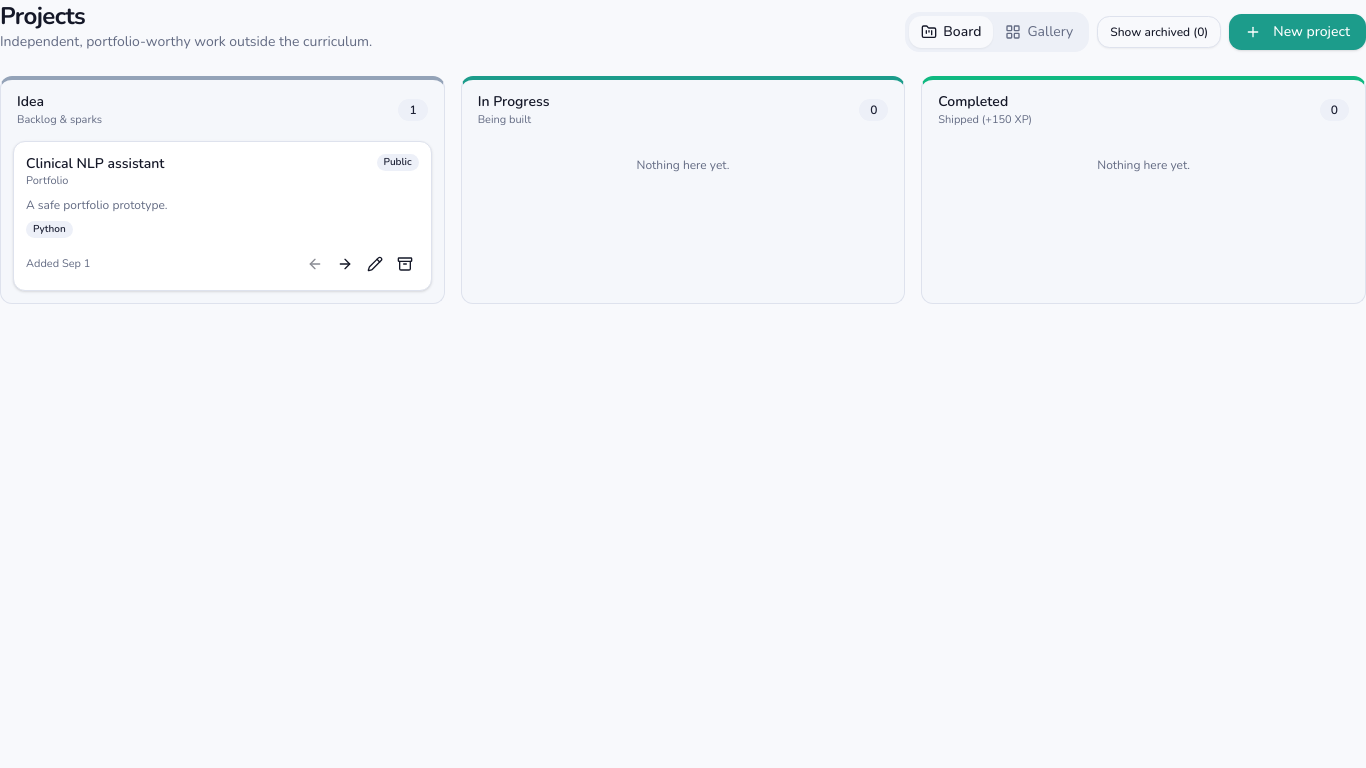
ProjectsScreen › retains explicit opt-in publication only for the owner
Click the button with test id "project-edit-project-1" at [375, 264], box [361,250,389,278]
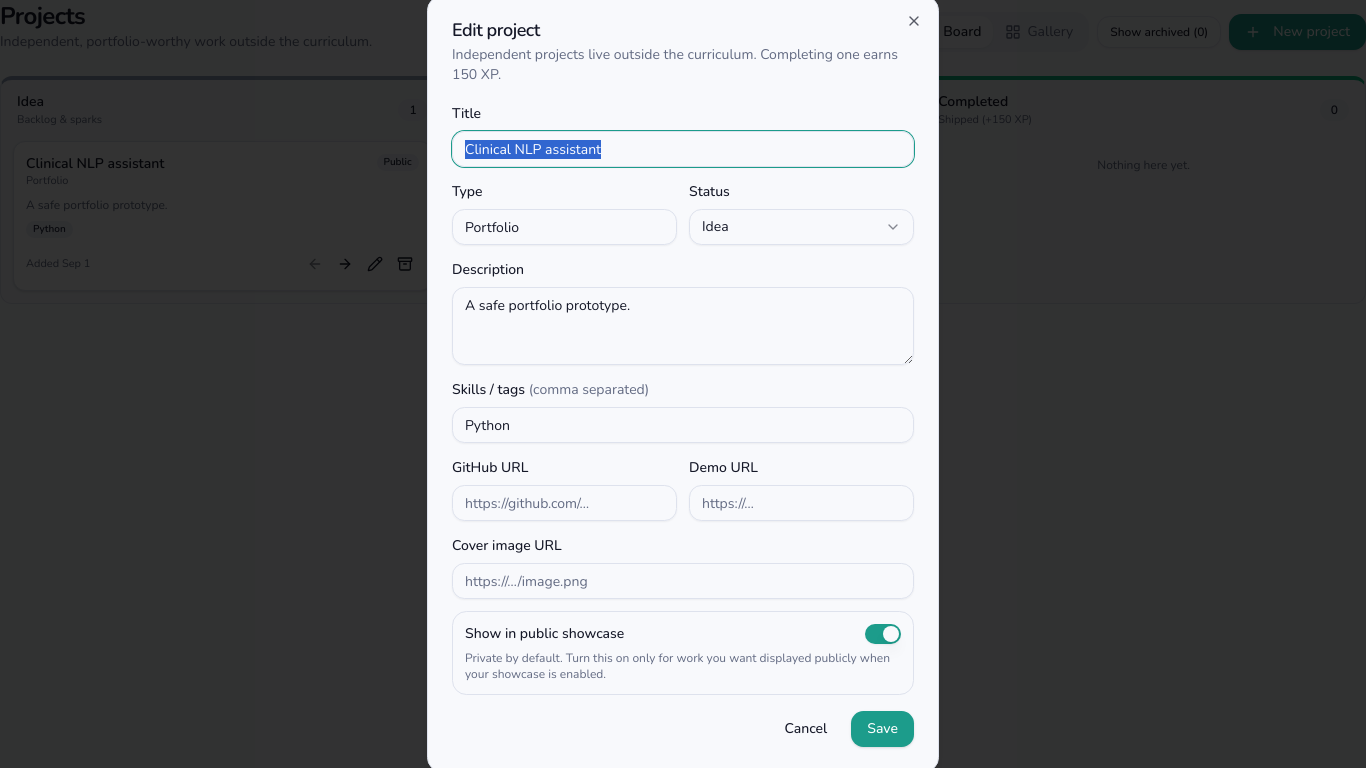
Check: the text "Show in public showcase" is shown, box [465,627,624,641]
Check: the switch with test id "project-public" is checked, box [865,624,901,644]
